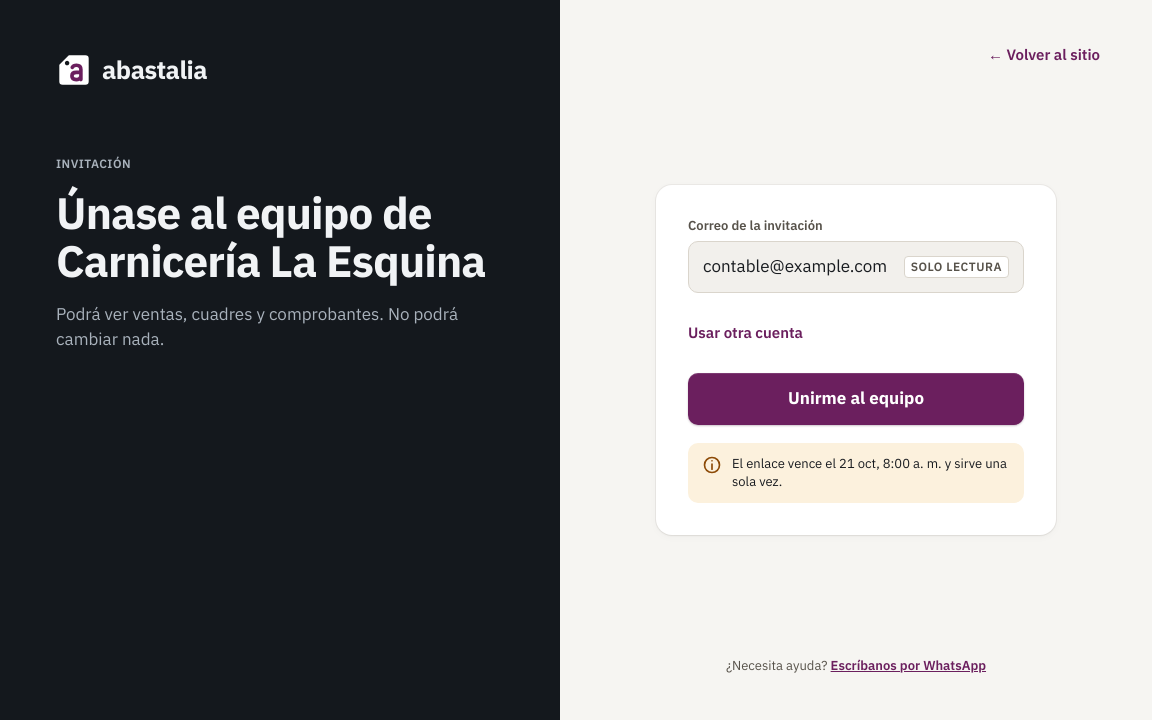
Scenario: TK-217: a wrong account gets the server's message
This screenshot has width=1152, height=720.
Click the button "Unirme al equipo".
click(856, 399)  # box [688,373,1024,425]
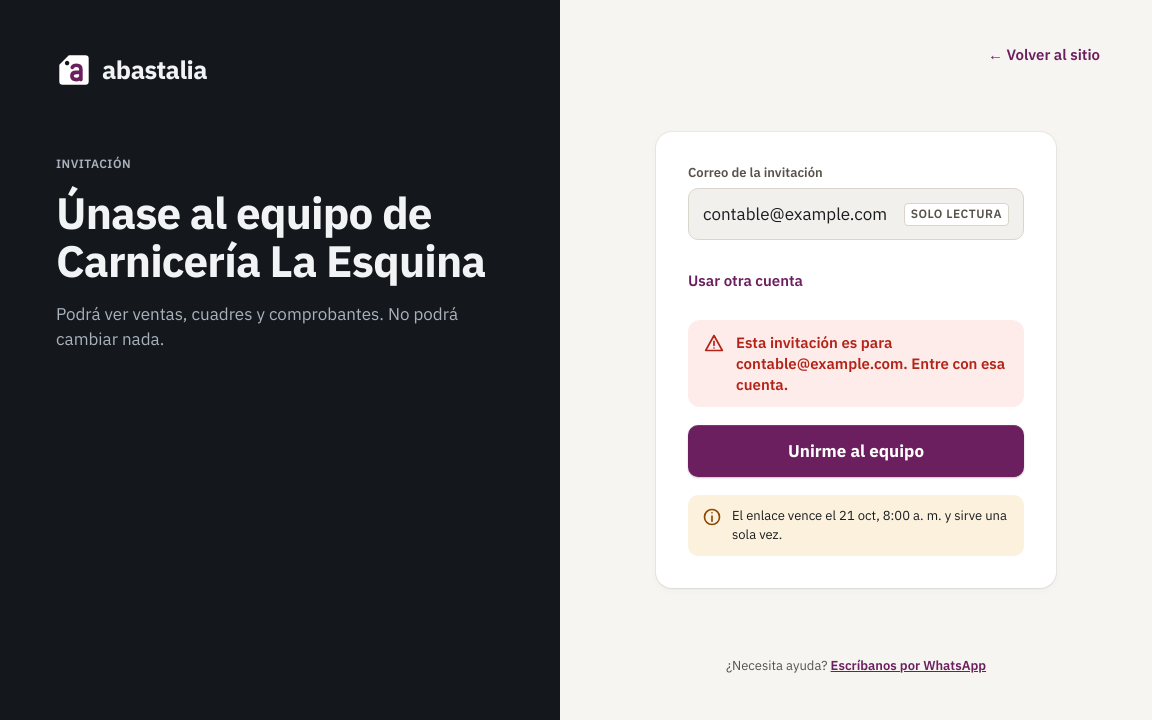
Check: the button "Usar otra cuenta" is shown, box [688,258,803,302]
Check: the text "Esta invitación es para contable@example.com. Entre con esa cuenta." is shown, box [736,332,1008,395]
